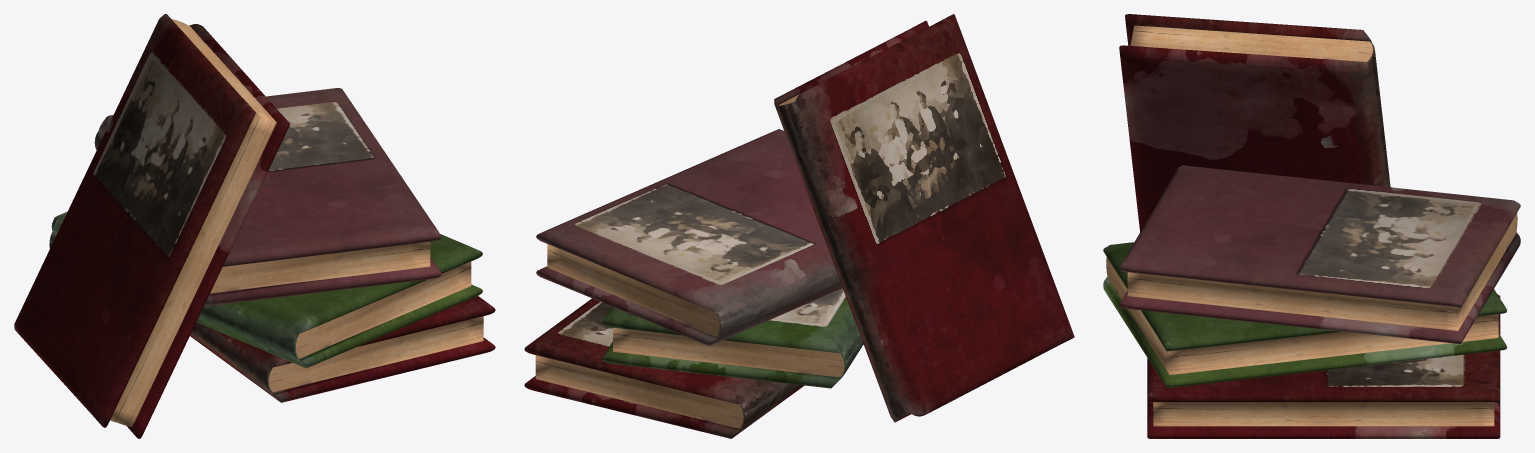
File: books.glb
3 renders of one model, left to right at view 1: azimuth 30°, elevation 25°; view 2: azimuth 150°, elevation 25°; view 3: azimuth 270°, elevation 25°, orthographic. The views are drawn at different scales.
Visible parts, largest first — view 1: Object_9, Object_7, Object_5, Object_8, Object_2, Object_6, Object_3, Object_4; view 2: Object_9, Object_7, Object_2, Object_5, Object_4, Object_3, Object_6; view 3: Object_7, Object_9, Object_2, Object_5, Object_6, Object_3, Object_4, Object_8.
Boxes of the visible parts, x1,y1,x2,y2 form: Object_9: (14, 14, 290, 438); Object_7: (94, 88, 441, 306); Object_5: (49, 211, 482, 368); Object_8: (110, 19, 276, 427); Object_2: (190, 296, 495, 402); Object_6: (210, 242, 430, 293); Object_3: (268, 316, 483, 392); Object_4: (296, 261, 471, 358); Object_9: (774, 14, 1074, 422); Object_7: (536, 129, 842, 346); Object_2: (524, 298, 804, 438); Object_5: (602, 288, 863, 388); Object_4: (613, 327, 844, 377); Object_3: (535, 355, 743, 428); Object_6: (547, 244, 719, 336); Object_7: (1119, 165, 1520, 343); Object_9: (1119, 14, 1390, 232); Object_2: (1147, 294, 1500, 438); Object_5: (1103, 242, 1507, 387); Object_6: (1127, 213, 1517, 330); Object_3: (1153, 402, 1494, 426); Object_4: (1106, 257, 1498, 374); Object_8: (1130, 25, 1372, 62).
Bounding box in the file's own units: 3.31 × 2.48 × 3.06.
Materials: 8 (8 with a texture image).
